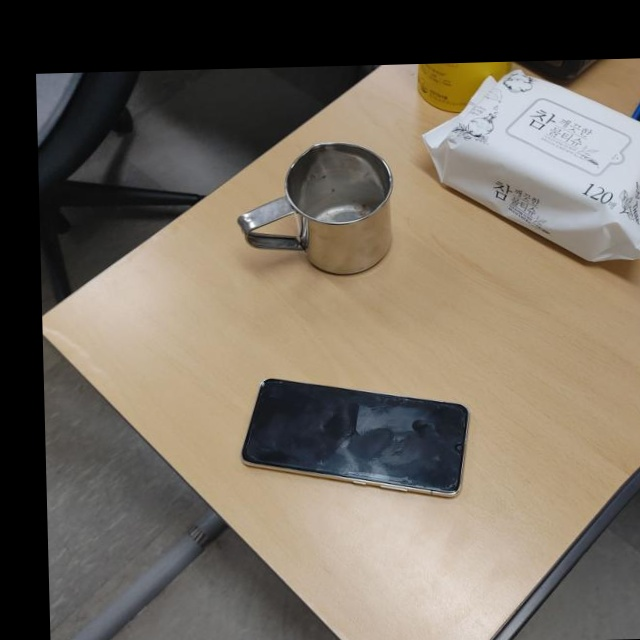cup: (236, 139, 399, 281)
phone: (236, 372, 471, 503)
